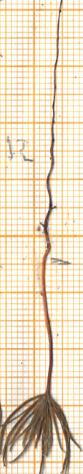flower: (0, 392, 83, 474)
root: (37, 0, 67, 260)
stem: (38, 259, 56, 392)
